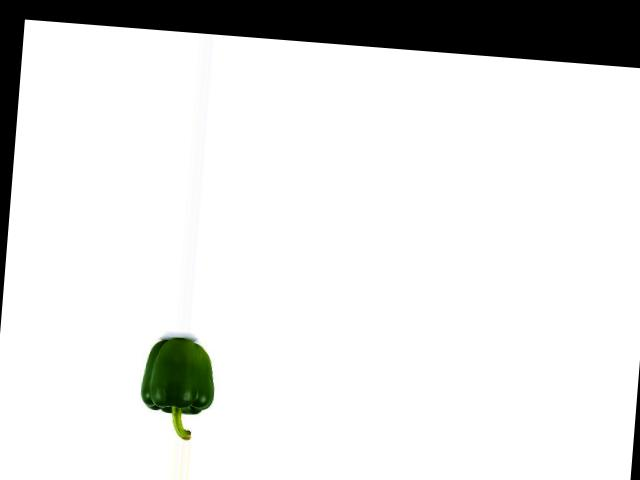bell_pepper: (126, 334, 219, 439)
